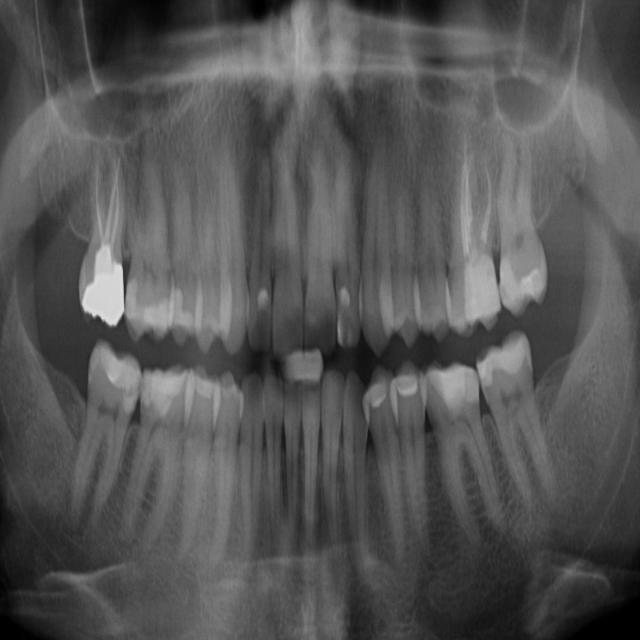dolgu: (443, 256, 509, 332), (433, 359, 484, 412), (482, 335, 534, 380), (504, 262, 552, 309), (94, 348, 144, 390), (390, 369, 422, 414), (255, 284, 276, 310), (336, 285, 354, 307)
kanal-tedavisi: (443, 131, 496, 263), (73, 146, 133, 260)
kaplama: (72, 242, 130, 329)
